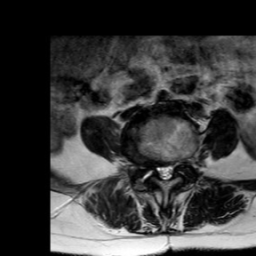CCS_severe_stenosis: (162, 155, 168, 187)
LFS_stenosis: (174, 150, 181, 173)
LLS_stenosis: (168, 154, 174, 185)
RFS_severe_stenosis: (147, 153, 155, 179)
RLS_severe_stenosis: (155, 156, 162, 184)
